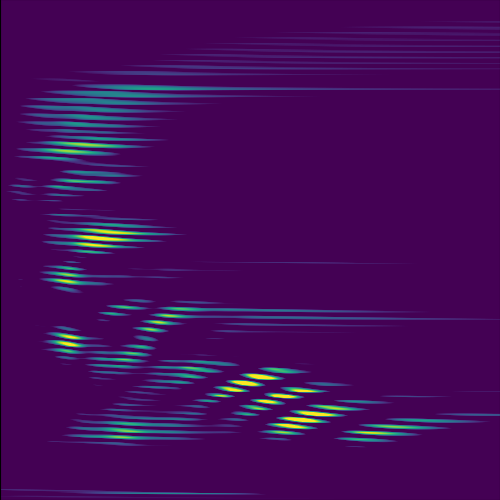semblance: (267, 396, 354, 437), (244, 376, 321, 419), (216, 354, 279, 406), (64, 221, 144, 254), (39, 133, 107, 160), (357, 420, 421, 442), (144, 304, 185, 336)
